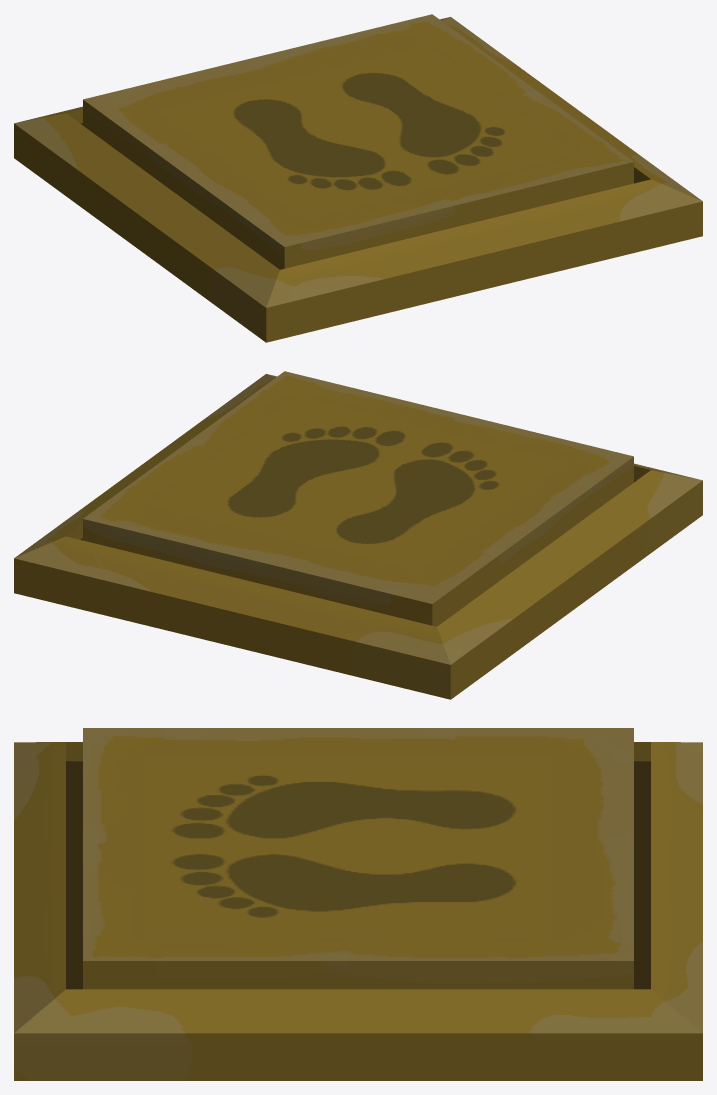
File: FloorSwitch.fbx
3 views of the same model, one above another, from view 1: azimuth 30°, elevation 25°; view 2: azimuth 150°, elevation 25°; view 3: azimuth 270°, elevation 25° (orthographic). The views are drawn at different scales.
Visible parts, largest first — view 1: Cube; view 2: Cube; view 3: Cube.
Part boxes in pixels (x1,y1,x2,y2): Cube: (14,14,702,342); Cube: (14,371,702,699); Cube: (14,728,702,1080).
Bounding box in the file's own units: 200 × 29.12 × 200.
